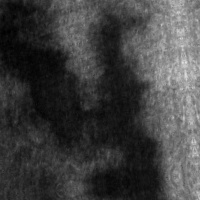patches: (77, 10, 156, 185), (0, 0, 84, 145)
